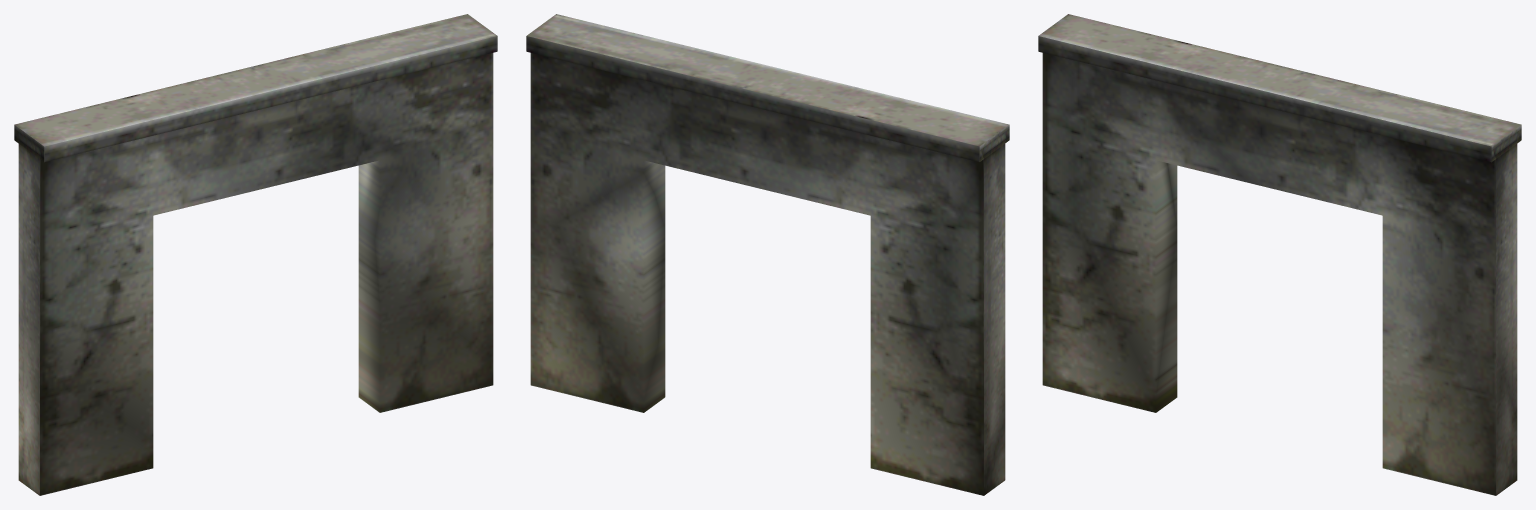
The model's file is Wall_doorway.fbx.
The picture shows the model from 3 angles, left to right: view 1: azimuth 30°, elevation 25°; view 2: azimuth 150°, elevation 25°; view 3: azimuth 330°, elevation 25°; orthographic projection.
Visible parts, largest first — view 1: Wall; view 2: Wall; view 3: Wall.
Boxes of the visible parts, x1,y1,x2,y2 form: Wall: (14,14,497,495); Wall: (526,14,1009,495); Wall: (1038,14,1521,495).
Bounding box in the file's own units: 403 × 299 × 46.22.
